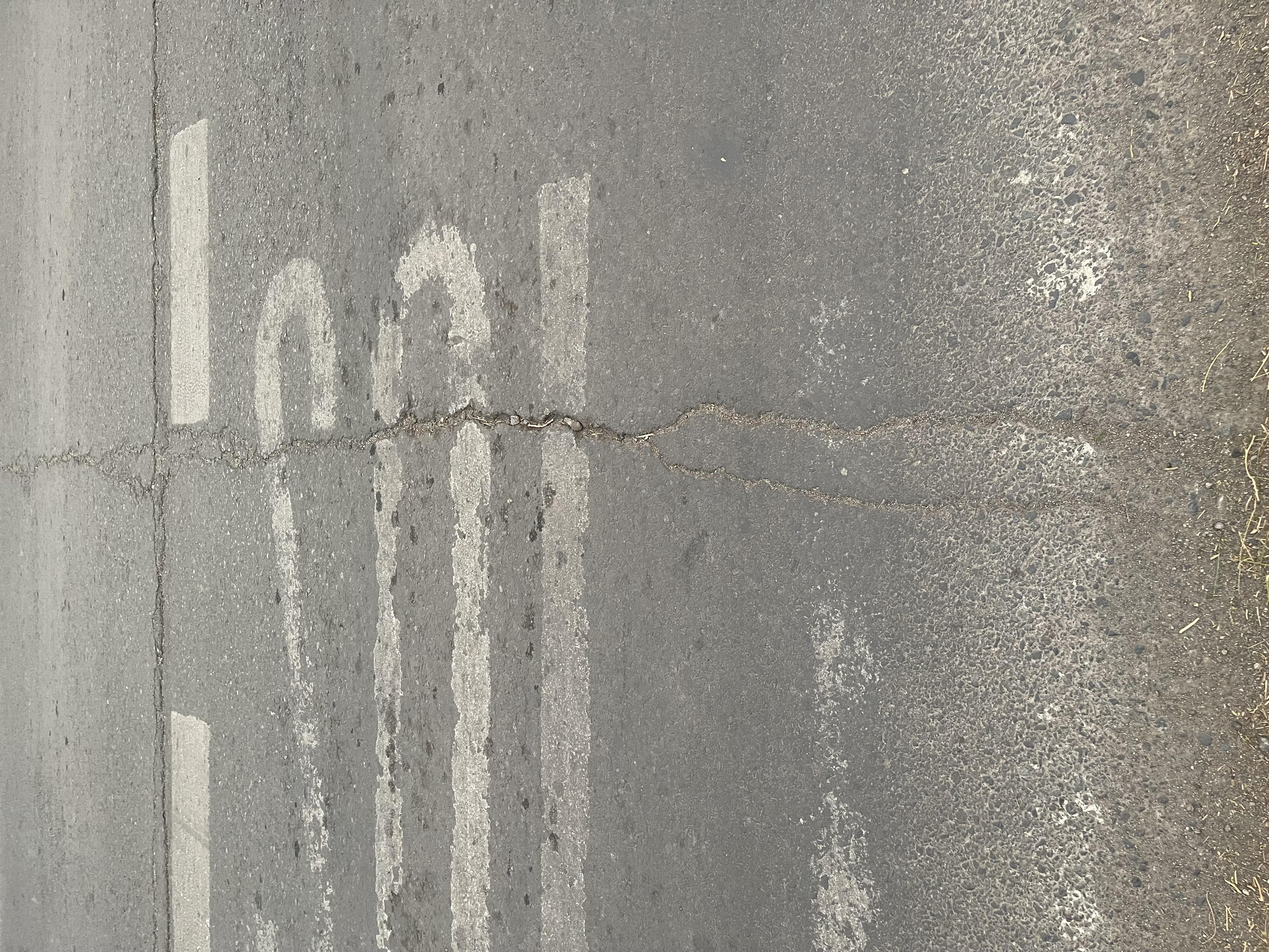GRIETA: (172, 402, 1141, 521), (651, 402, 1189, 462), (149, 0, 173, 951), (0, 453, 147, 497)
